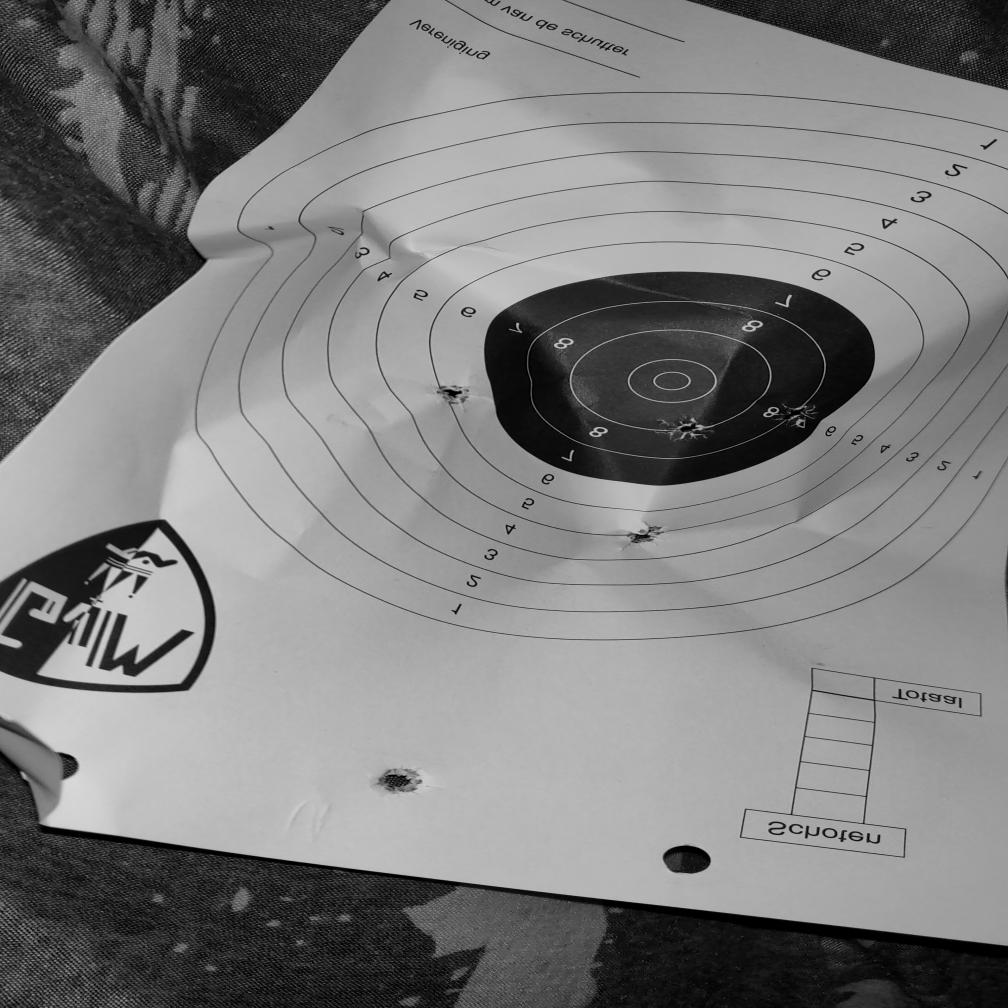0: (373, 767, 436, 796)
5: (620, 523, 672, 552)
6: (431, 383, 474, 408)
8: (769, 402, 823, 428)
9: (659, 417, 715, 441)
Target: (194, 91, 1008, 643)
black_contour: (482, 270, 878, 485)
